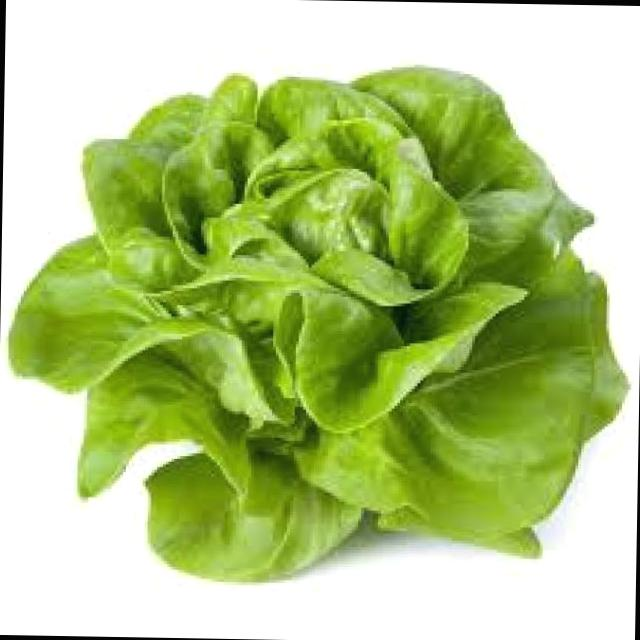Lettuce-Ready-to-Harvest: (9, 67, 623, 578)
